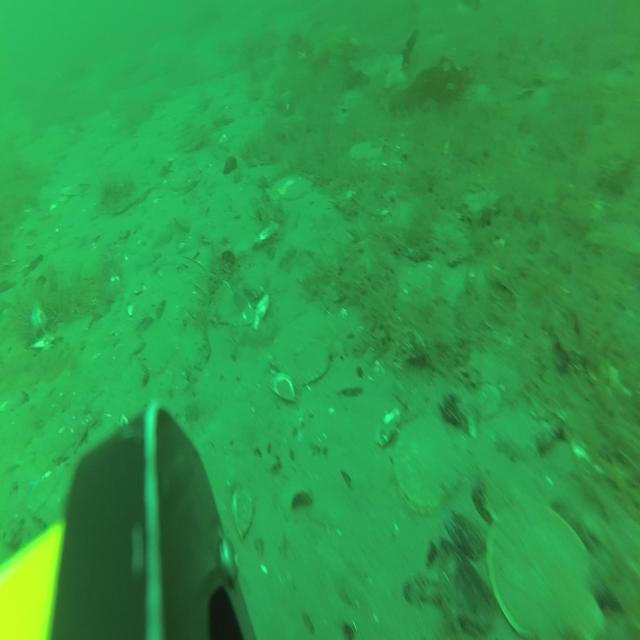scallop: (488, 500, 604, 640), (394, 417, 463, 515), (274, 313, 344, 384), (349, 140, 382, 167), (170, 168, 201, 196), (271, 174, 297, 198), (288, 177, 312, 200)
